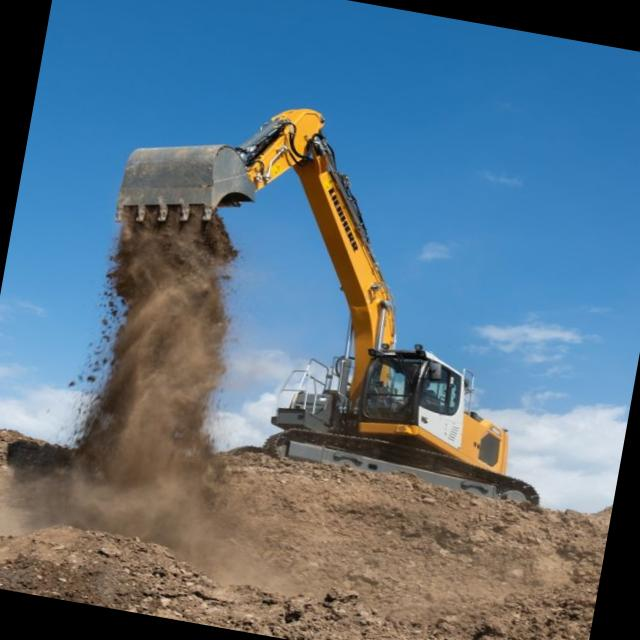red-sand: (0, 449, 612, 640)
